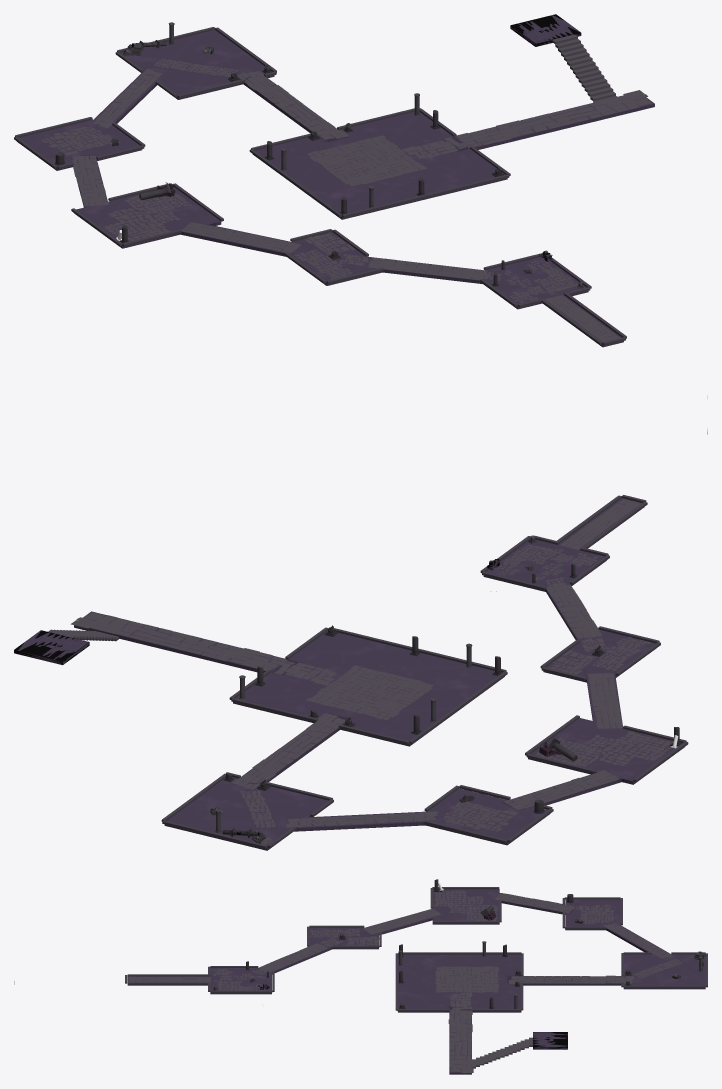
Rendered from 3-3 working 2.glb.
The picture shows the model from 3 angles, top to bottom: view 1: azimuth 30°, elevation 25°; view 2: azimuth 150°, elevation 25°; view 3: azimuth 270°, elevation 25°; orthographic projection. The views are drawn at different scales.
Visible parts, largest first — view 1: layout-col, Cube.024, Cube.023, Cube.031, Stairs.002, CSGBox3D142, Cube.011, Cube.001, Cube.016, Cube.009, Cube.028, Cube.005 (+4 smaller); view 2: layout-col, Cube.024, Cube.023, Cube.031, CSGBox3D142, Cube.011, Cube.001, Cube.016, Cube.028, Cube.009, Cube.005, Cube.019 (+3 smaller); view 3: layout-col, Cube.024, Cube.023, Cube.031, Cube.011, CSGBox3D142, Cube.016, Cube.001, Stairs.002, Cube.028, Cube.009, Cube.005 (+4 smaller).
Boxes of the visible parts, x1,y1,x2,y2 form: layout-col: (17,30,654,347); Cube.024: (307,135,427,186); Cube.023: (456,90,651,147); Cube.031: (237,71,348,139); Stairs.002: (552,34,616,102); CSGBox3D142: (510,14,581,46); Cube.011: (181,222,301,253); Cube.001: (368,257,487,280); Cube.016: (72,155,108,206); Cube.009: (41,126,119,156); Cube.028: (93,68,162,128); Cube.005: (544,295,619,342); layout-col: (74,498,684,850); Cube.024: (306,665,433,719); Cube.023: (70,612,287,670); Cube.031: (232,713,346,789); CSGBox3D142: (14,630,89,665); Cube.011: (588,673,622,728); Cube.001: (546,584,601,638); Cube.016: (503,770,619,809); Cube.028: (286,811,437,827); Cube.009: (442,801,519,831); Cube.005: (560,499,640,549); Cube.019: (606,731,673,760); layout-col: (127,889,705,1074); Cube.024: (435,966,499,992); Cube.023: (448,1009,473,1073); Cube.031: (508,975,634,983); Cube.011: (363,908,441,934); CSGBox3D142: (533,1032,567,1049); Cube.016: (494,893,575,912); Cube.001: (260,943,328,972); Stairs.002: (472,1037,532,1068); Cube.028: (603,923,673,958); Cube.009: (579,904,613,923); Cube.005: (128,976,210,982).
Size of the model in its own units: 169 by 15.09 by 267.
10 materials, 3 textured.
